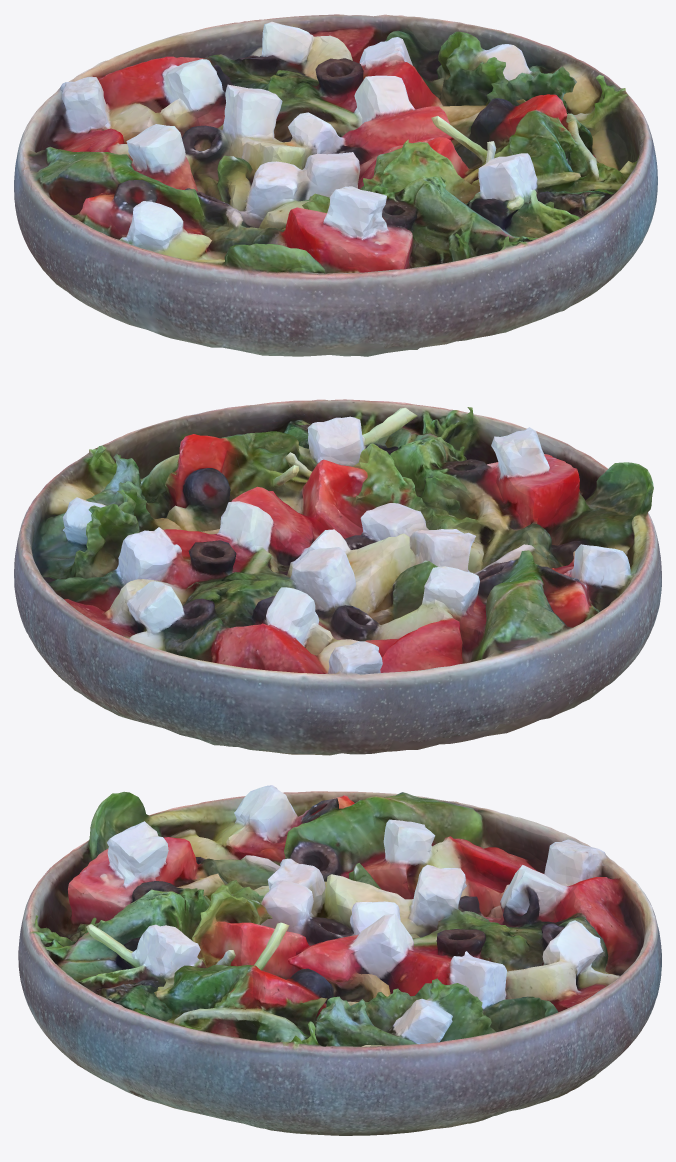
Rendered from salad.unnani.medium.final.glb.
3 views of the same model, one above another, from view 1: azimuth 30°, elevation 25°; view 2: azimuth 150°, elevation 25°; view 3: azimuth 270°, elevation 25° (orthographic).
Parts seen in each view (by area): view 1: object 1; view 2: object 1; view 3: object 1.
Boxes of the visible parts, left/top/right/bottom form: object 1: left=14, top=14, right=657, bottom=356; object 1: left=14, top=399, right=661, bottom=755; object 1: left=18, top=785, right=661, bottom=1135.
Size of the model in its own units: 0.1989 by 0.0485 by 0.1995.
Materials: 2 (1 with a texture image).
